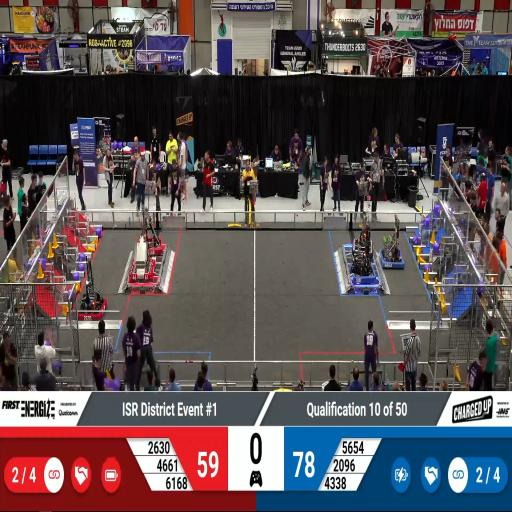robot: (78, 262, 108, 321), (379, 214, 405, 272), (138, 207, 165, 255), (128, 242, 155, 283), (351, 214, 374, 260), (348, 254, 378, 287)
